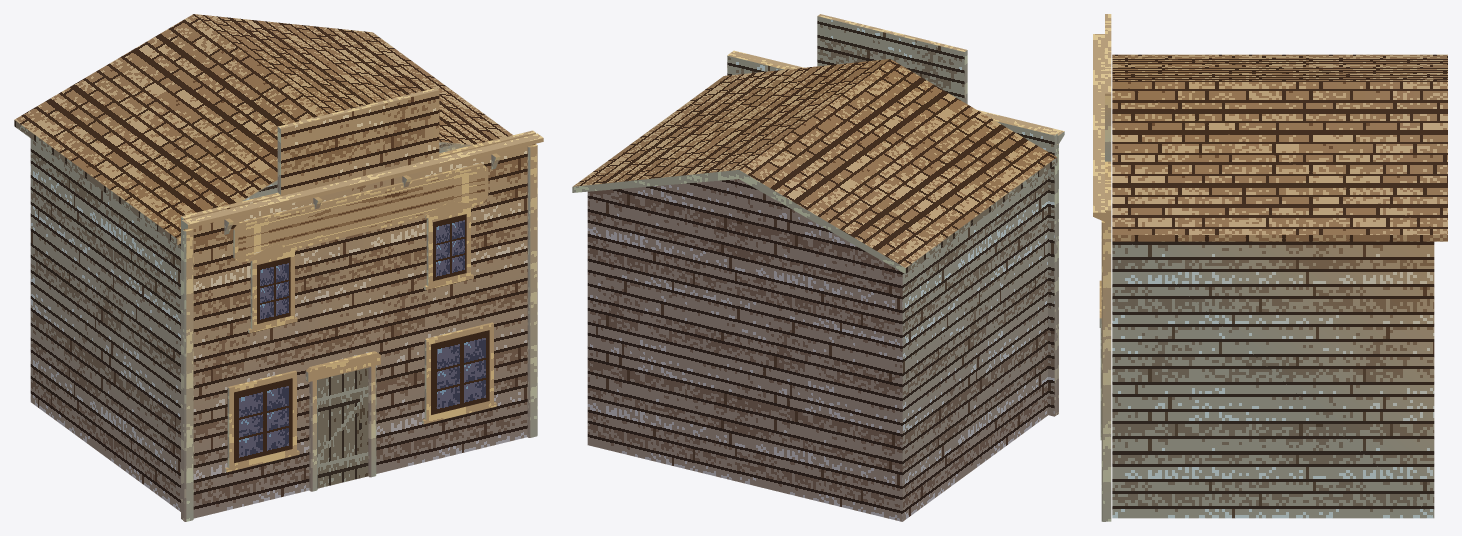
File: wtown.facade__f_tall.glb
The picture shows the model from 3 angles, left to right: view 1: azimuth 30°, elevation 25°; view 2: azimuth 150°, elevation 25°; view 3: azimuth 270°, elevation 25°; orthographic projection. The views are drawn at different scales.
Parts seen in each view (by area): view 1: kit_front, kit_roof, kit_body, kit_card_panes, kit_trim, kit_windows; view 2: kit_body, kit_roof, kit_front, kit_trim; view 3: kit_body, kit_roof, kit_trim, kit_front.
Boxes of the visible parts, x1,y1,x2,y2 form: kit_front: [181, 88, 535, 519]; kit_roof: [14, 14, 512, 245]; kit_body: [30, 138, 468, 511]; kit_card_panes: [234, 167, 489, 488]; kit_trim: [181, 133, 543, 521]; kit_windows: [225, 201, 496, 472]; kit_body: [587, 170, 1047, 521]; kit_roof: [572, 59, 1057, 274]; kit_front: [727, 14, 1057, 416]; kit_trim: [728, 50, 1064, 414]; kit_body: [1112, 241, 1434, 518]; kit_roof: [1112, 54, 1447, 241]; kit_trim: [1093, 34, 1105, 521]; kit_front: [1105, 14, 1111, 521].
Bounding box in the file's own units: 7.94 × 7.8 × 6.61.
Materials: 6 (6 with a texture image).
